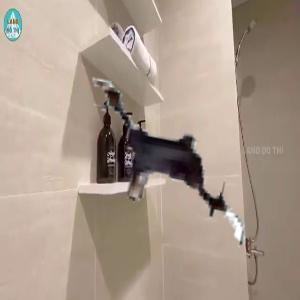drone: (55, 52, 278, 275)
